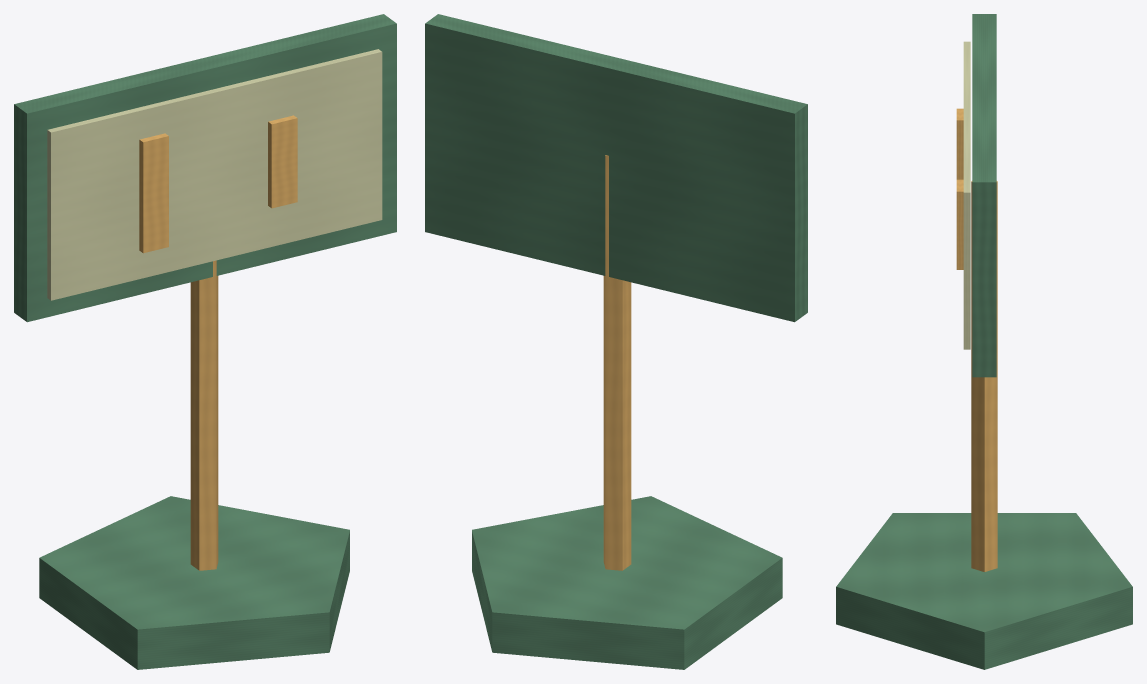
The model's file is atlas100-s002-a11.lod1.glb.
3 renders of one model, left to right at view 1: azimuth 30°, elevation 25°; view 2: azimuth 150°, elevation 25°; view 3: azimuth 270°, elevation 25°, orthographic. The views are drawn at different scales.
Parts seen in each view (by area): view 1: atlas100-s002-a11:part-003, atlas100-s002-a11:part-000, atlas100-s002-a11:part-002, atlas100-s002-a11:part-001, atlas100-s002-a11:part-004, atlas100-s002-a11:part-006; view 2: atlas100-s002-a11:part-002, atlas100-s002-a11:part-000, atlas100-s002-a11:part-001; view 3: atlas100-s002-a11:part-000, atlas100-s002-a11:part-002, atlas100-s002-a11:part-001, atlas100-s002-a11:part-003, atlas100-s002-a11:part-006, atlas100-s002-a11:part-004.
Boxes of the visible parts, box(x1,y1,x2,y2) form: atlas100-s002-a11:part-003: box(47, 49, 382, 300); atlas100-s002-a11:part-000: box(39, 496, 349, 669); atlas100-s002-a11:part-002: box(14, 14, 396, 322); atlas100-s002-a11:part-001: box(190, 260, 218, 570); atlas100-s002-a11:part-004: box(139, 133, 168, 253); atlas100-s002-a11:part-006: box(268, 115, 297, 208); atlas100-s002-a11:part-002: box(425, 14, 807, 322); atlas100-s002-a11:part-000: box(472, 496, 782, 669); atlas100-s002-a11:part-001: box(603, 155, 631, 570); atlas100-s002-a11:part-000: box(836, 513, 1132, 669); atlas100-s002-a11:part-002: box(972, 14, 996, 377); atlas100-s002-a11:part-001: box(971, 181, 997, 571); atlas100-s002-a11:part-003: box(963, 41, 970, 349); atlas100-s002-a11:part-006: box(956, 179, 963, 269); atlas100-s002-a11:part-004: box(956, 108, 963, 179).
Size of the model in its own units: 1.15 by 1.61 by 0.856.
3 materials, 3 textured.
